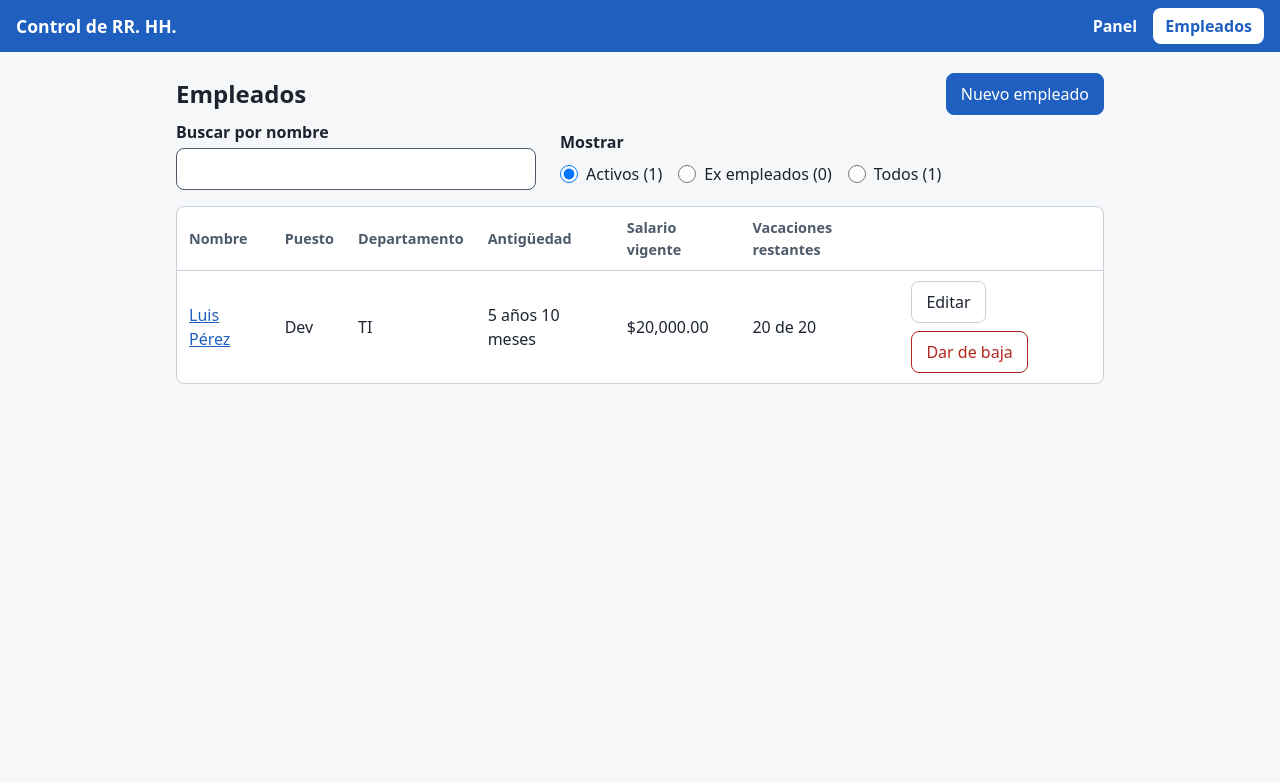
baja de empleados (A8, R8) › no hay opción de eliminar; "Dar de baja" está en la lista y en el detalle
The width and height of the screenshot is (1280, 782).
What coordinates should you click on to do the following:
click the link "Luis Pérez"
I would click on:
 (204, 315)
Its box is [189,304,230,350].
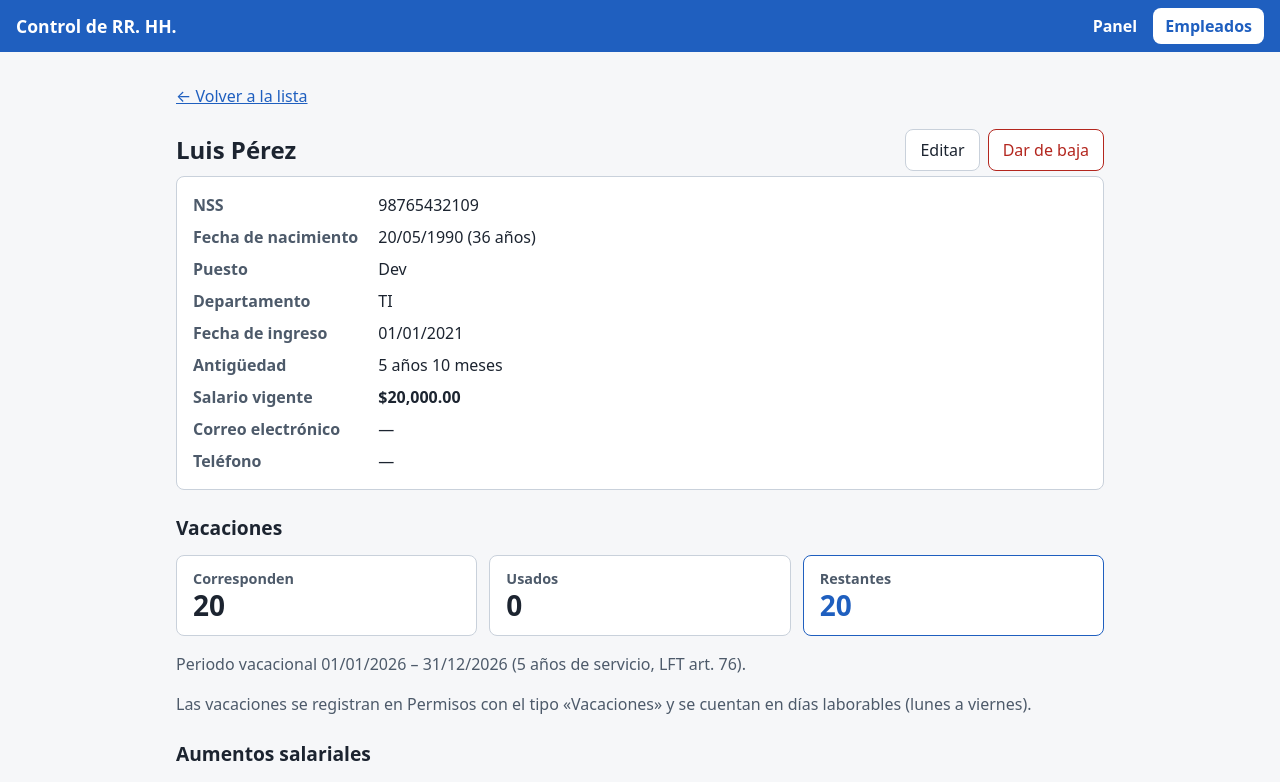
What coordinates should you click on to do the following:
click the link "Dar de baja"
I would click on:
 (1046, 150)
Its box is [988,129,1104,171].
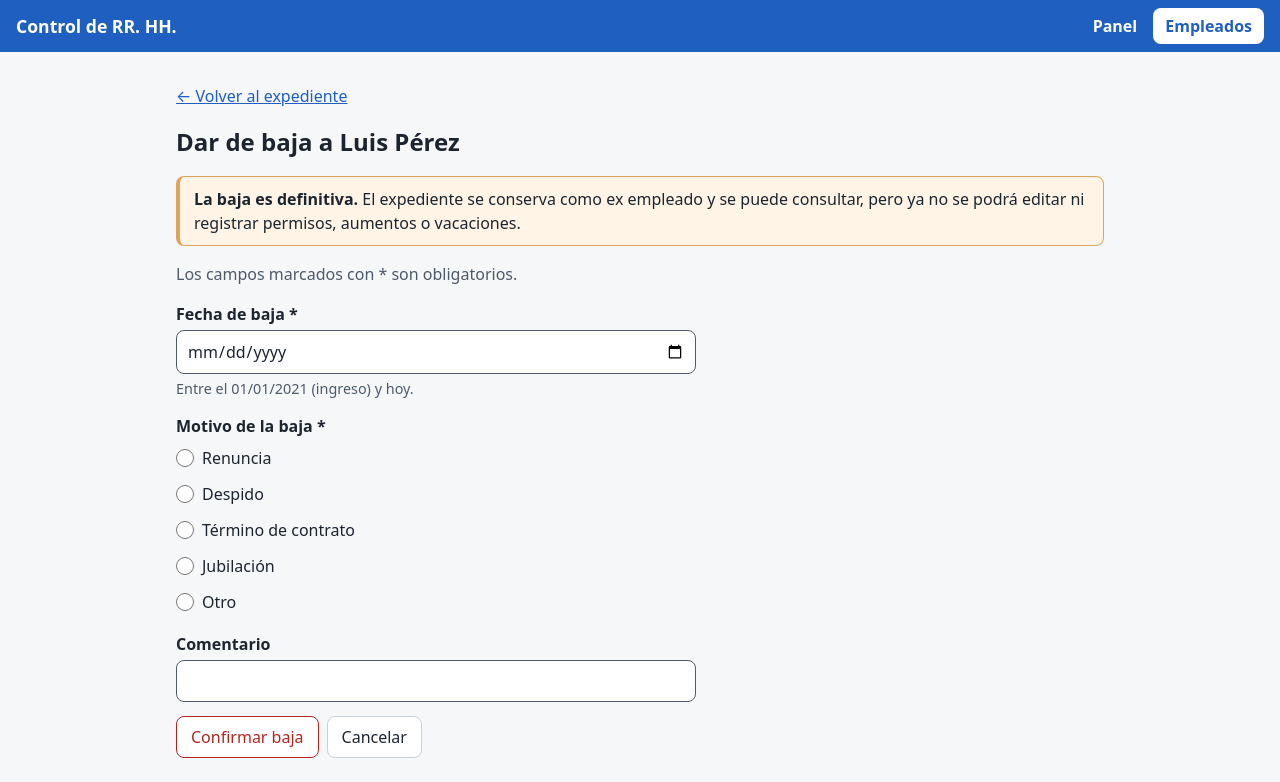
Expected: the heading "Dar de baja a Luis Pérez" is shown, [176,125,460,158]
Expected: the text "La baja es definitiva." is shown, [194,188,358,210]
